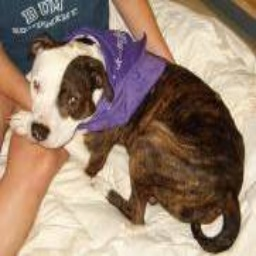dog: (13, 26, 244, 249)
